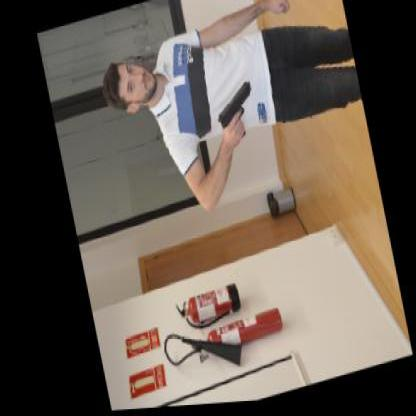pistol: (210, 82, 258, 144)
